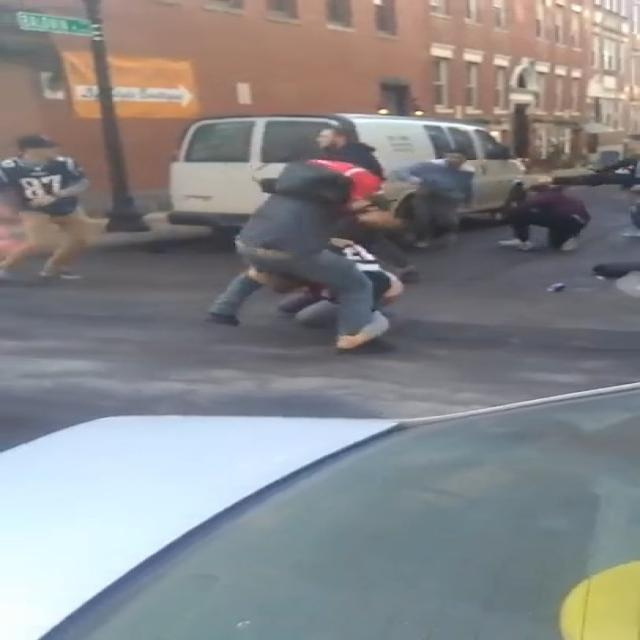fight: (196, 123, 431, 394), (433, 133, 600, 264)
